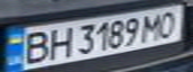1: (93, 19, 112, 51)
3: (75, 21, 96, 55)
8: (109, 17, 127, 48)
9: (121, 15, 145, 46)
B: (15, 28, 54, 64)
H: (45, 25, 75, 60)
M: (139, 11, 166, 42)
O: (154, 8, 184, 38)
